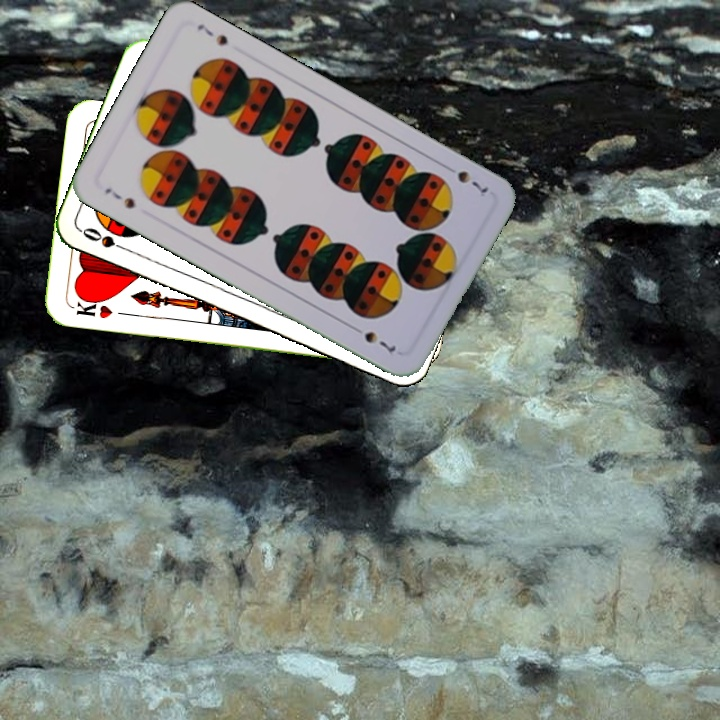HK: (68, 292, 115, 322)
S7: (440, 160, 491, 200), (101, 183, 138, 212)
SO: (78, 223, 134, 255)
